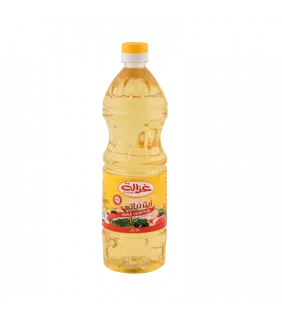GHAZELA: (92, 35, 180, 284)
